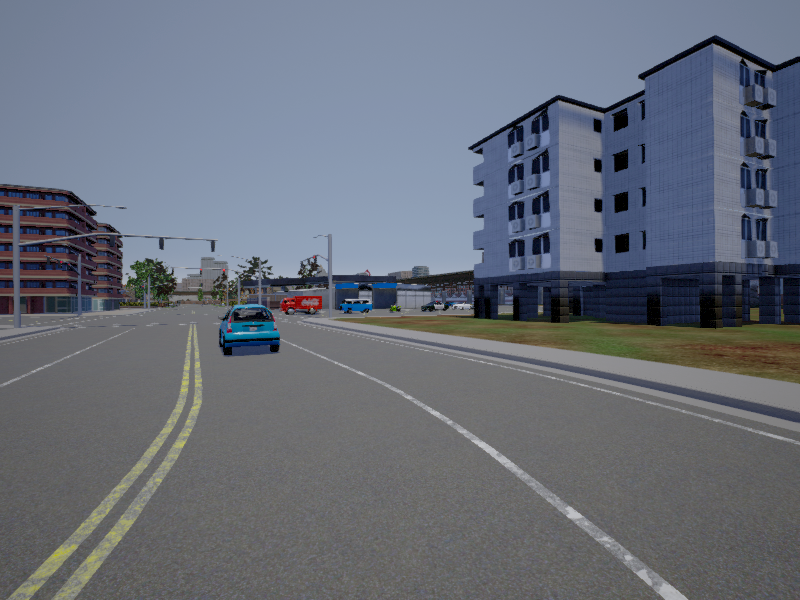Benign: (219, 309, 281, 355), (339, 299, 376, 315), (419, 299, 452, 313)
benign: (281, 296, 324, 317)
